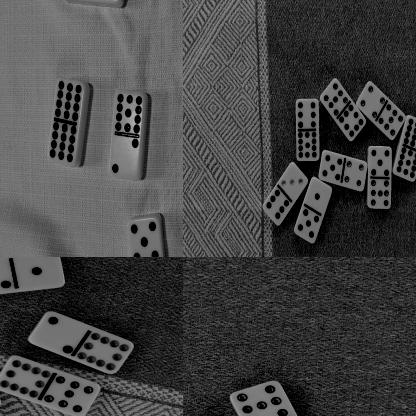pip-1: (14, 257, 67, 288), (306, 177, 333, 209)
pip-10: (77, 332, 134, 374), (0, 354, 52, 398)
pip-11: (115, 91, 144, 135), (393, 147, 416, 183), (296, 130, 320, 161)
pip-12: (54, 78, 83, 122), (49, 123, 77, 168), (405, 116, 416, 151)
pip-2: (28, 311, 87, 355), (110, 136, 141, 181), (0, 257, 14, 297)
pip-3: (281, 163, 309, 199)
pip-4: (358, 82, 386, 121), (345, 159, 368, 194)
pip-5: (127, 216, 163, 257), (294, 207, 322, 245), (319, 150, 344, 185), (368, 146, 393, 179)
pip-6: (263, 190, 290, 227), (295, 99, 320, 132)
pip-7: (44, 376, 100, 416), (230, 381, 289, 416), (320, 79, 348, 118), (379, 104, 406, 142)
pip-8: (340, 104, 367, 143)
